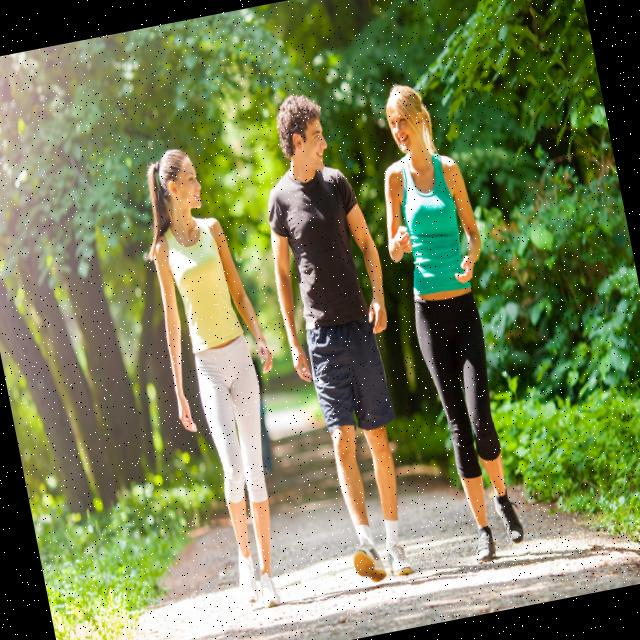Person: (242, 84, 439, 588), (358, 74, 543, 570), (129, 140, 318, 620)
